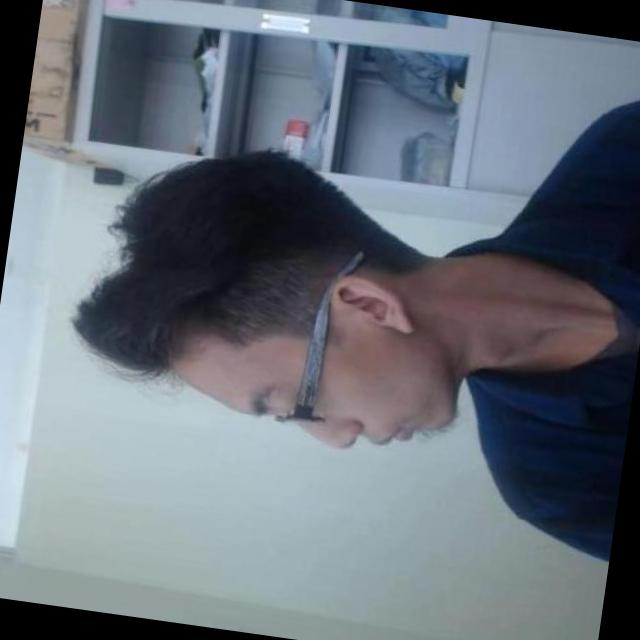bareface: (92, 98, 498, 500)
